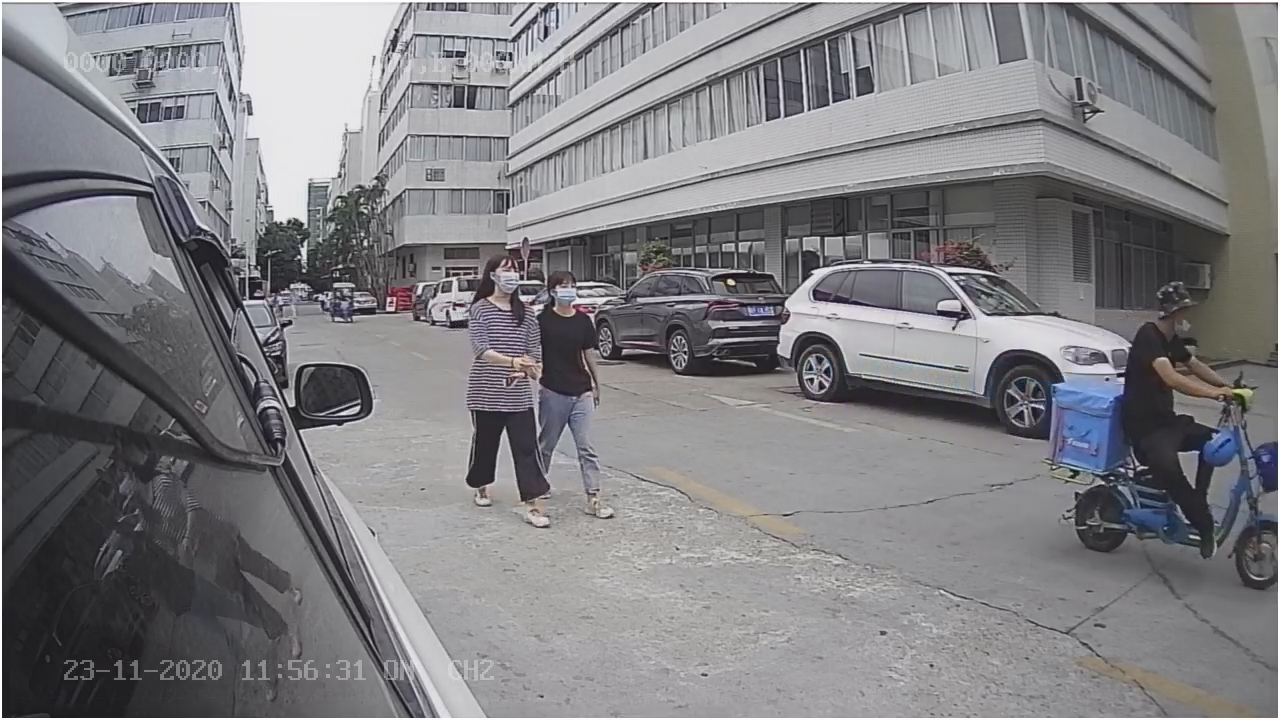person: (459, 249, 552, 528), (534, 270, 633, 525), (1121, 273, 1221, 425)
